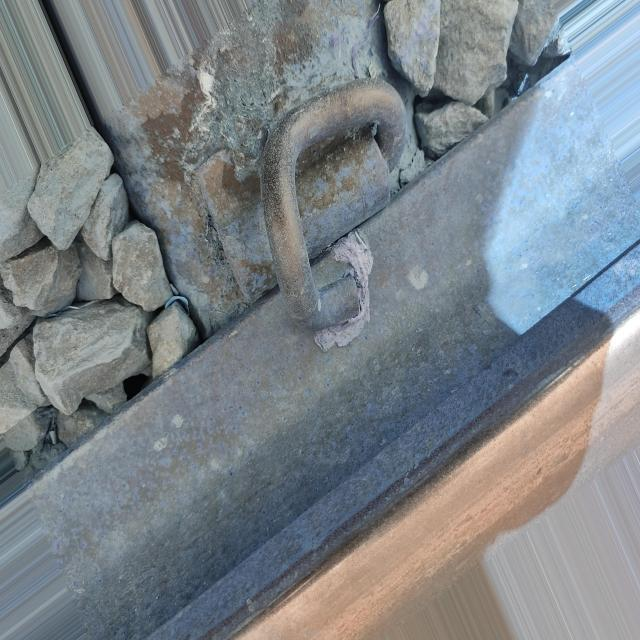Good Fasteners: (188, 61, 420, 370)
